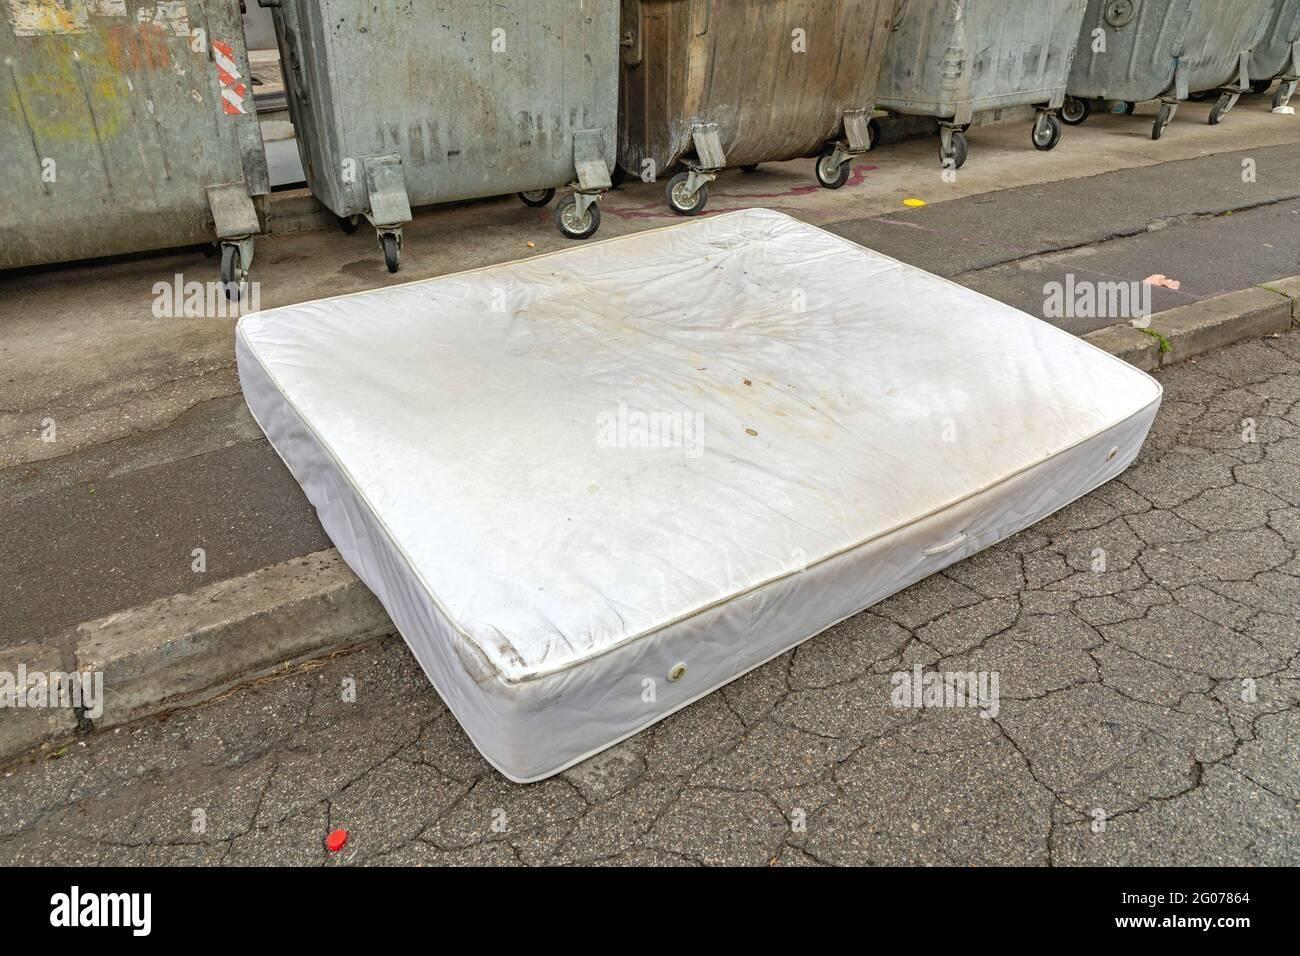Bed-Mattress: (213, 192, 1184, 798)
